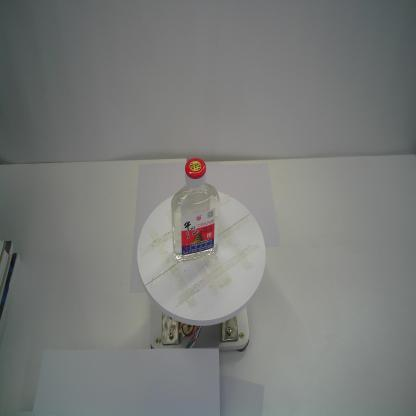Alcohol: (170, 158, 220, 262)
